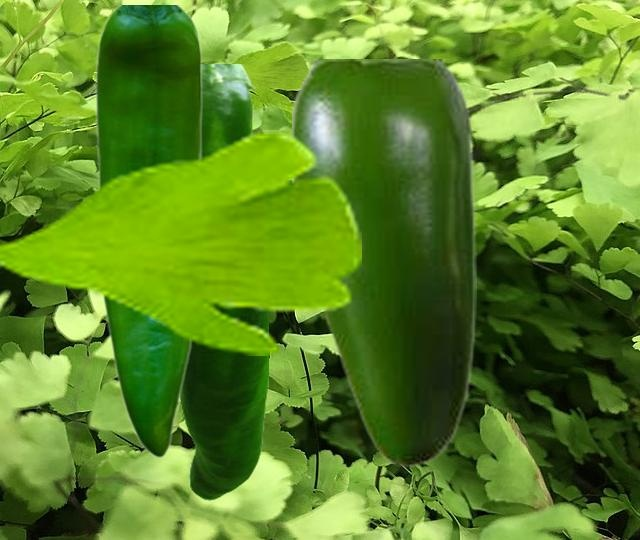green_chili: (292, 59, 475, 467), (94, 5, 202, 456), (179, 64, 267, 499)
